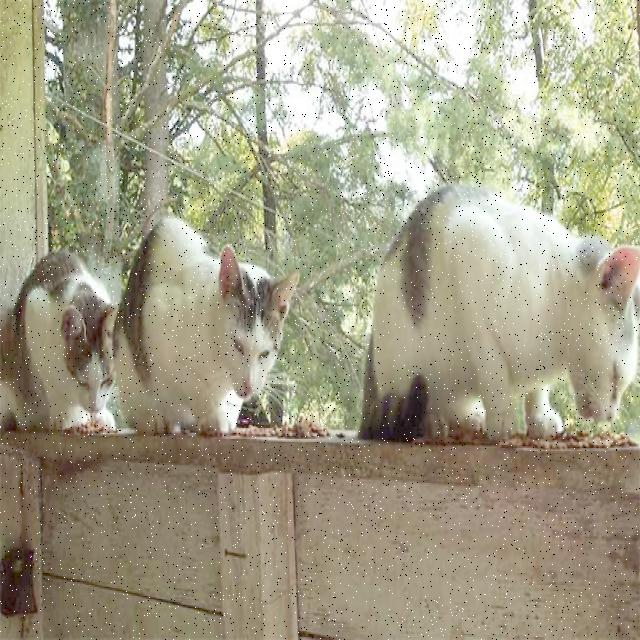cat: (359, 185, 640, 441), (114, 215, 299, 433), (0, 252, 116, 430)
